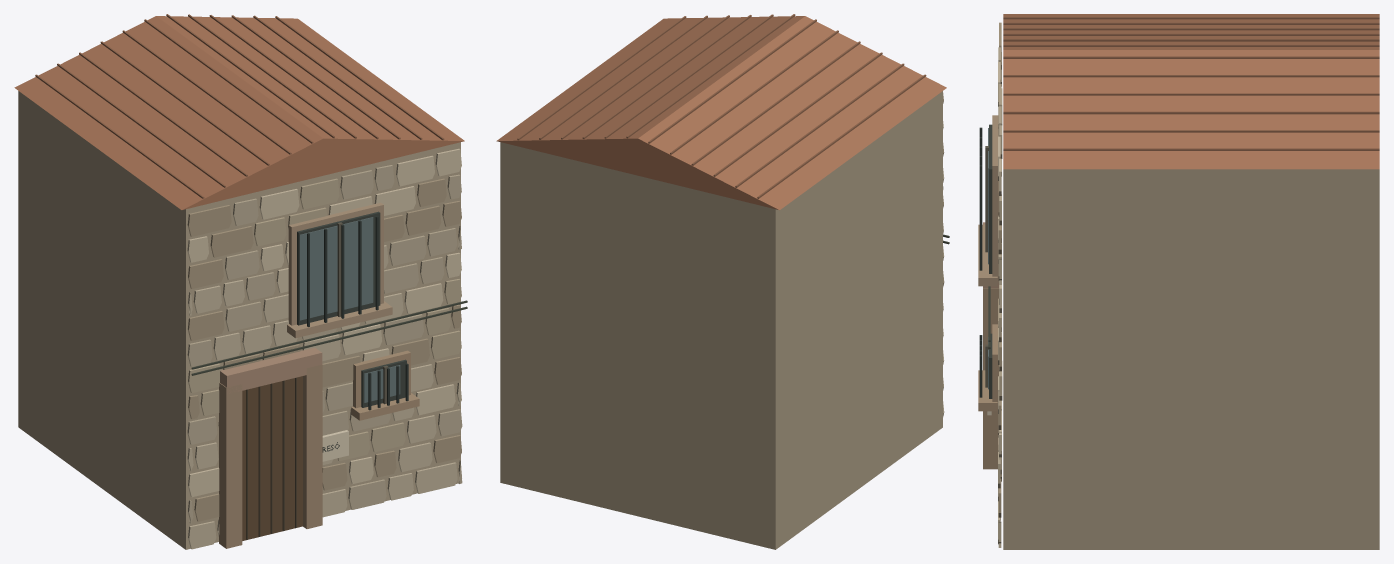
File: prison.glb
The picture shows the model from 3 angles, left to right: view 1: azimuth 30°, elevation 25°; view 2: azimuth 150°, elevation 25°; view 3: azimuth 270°, elevation 25°; orthographic projection. The views are drawn at different scales.
Parts seen in each view (by area): view 1: prison Town #b3a48b, prison Town #ad795b.001, prison Town #bbae95, prison Town #ac9c82, prison Town #c3b69d, prison Town #cdbfa5, prison Town #69533d, prison Town #94694f.001, prison Town #a68e75, prison Town #baac91, prison Town #6a7979.001, prison Town #ad967c (+8 smaller); view 2: prison Town #b3a48b, prison Town #ad795b.001, prison Town #94694f.001; view 3: prison Town #b3a48b, prison Town #ad795b.001, prison Town #94694f.001, prison Town #ad967c, prison Town #a68e75, prison Town #aa9277, prison Town #424943.001, prison Town #343c38, prison Town #bbae95, prison Town #ac9c82, prison Town #cdbfa5, prison Town #baac91.
Boxes of the visible parts, bbox=[...] form: prison Town #b3a48b: bbox=[18, 91, 460, 549]; prison Town #ad795b.001: bbox=[14, 16, 464, 209]; prison Town #bbae95: bbox=[187, 165, 462, 523]; prison Town #ac9c82: bbox=[187, 178, 461, 521]; prison Town #c3b69d: bbox=[187, 245, 461, 549]; prison Town #cdbfa5: bbox=[187, 148, 461, 536]; prison Town #69533d: bbox=[242, 376, 302, 540]; prison Town #94694f.001: bbox=[35, 14, 444, 198]; prison Town #a68e75: bbox=[219, 364, 322, 548]; prison Town #baac91: bbox=[188, 178, 461, 461]; prison Town #6a7979.001: bbox=[299, 217, 400, 402]; prison Town #ad967c: bbox=[287, 202, 392, 338]; prison Town #b3a48b: bbox=[500, 91, 942, 549]; prison Town #ad795b.001: bbox=[496, 16, 946, 210]; prison Town #94694f.001: bbox=[517, 14, 926, 198]; prison Town #b3a48b: bbox=[1003, 169, 1379, 549]; prison Town #ad795b.001: bbox=[1003, 14, 1379, 169]; prison Town #94694f.001: bbox=[1003, 17, 1379, 150]; prison Town #ad967c: bbox=[978, 115, 998, 286]; prison Town #a68e75: bbox=[983, 288, 998, 469]; prison Town #aa9277: bbox=[978, 324, 998, 411]; prison Town #424943.001: bbox=[989, 124, 992, 398]; prison Town #343c38: bbox=[979, 127, 982, 397]; prison Town #bbae95: bbox=[998, 47, 1002, 547]; prison Town #ac9c82: bbox=[998, 22, 1001, 517]; prison Town #cdbfa5: bbox=[998, 52, 1001, 455]; prison Town #baac91: bbox=[998, 84, 1002, 457].
Bounding box in the file's own units: 4.79 × 6.1 × 5.23.
